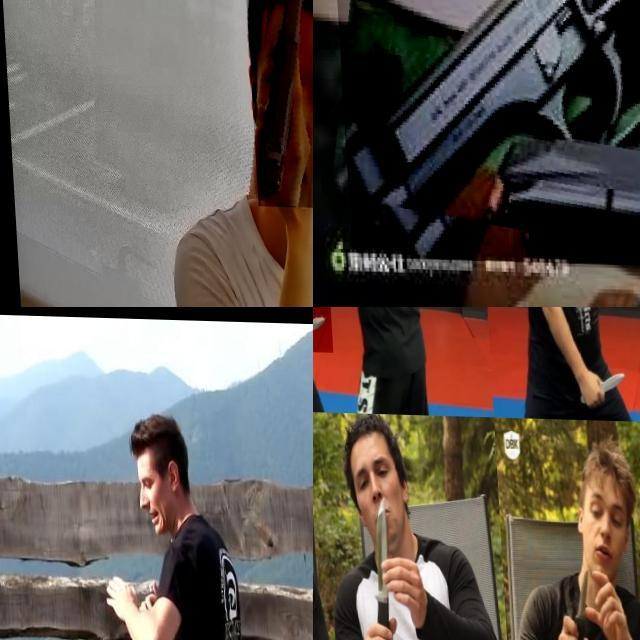-: (350, 492, 398, 640), (554, 551, 598, 640), (0, 531, 23, 640), (578, 358, 630, 402), (313, 307, 342, 351)
gun-knife-thesis - v11 Yolov5 augmented: (320, 0, 640, 272), (242, 0, 313, 206)
